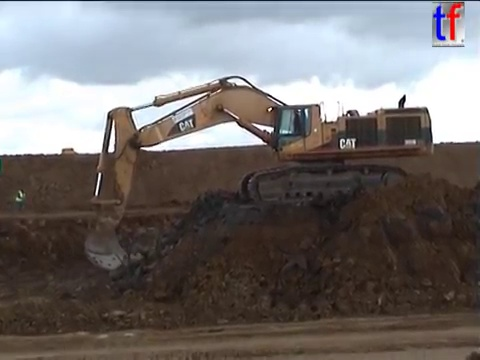excavator: (81, 72, 437, 274)
truck: (59, 147, 76, 161)
worker: (13, 185, 27, 215)
